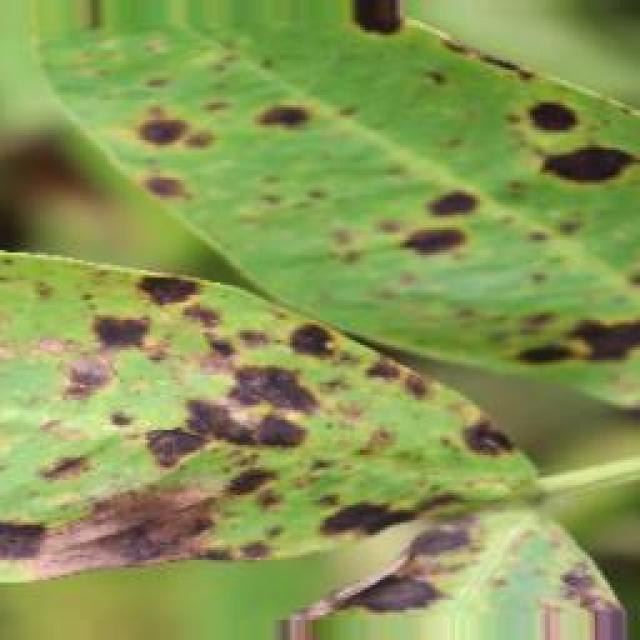Yellowish: (0, 3, 627, 597)
